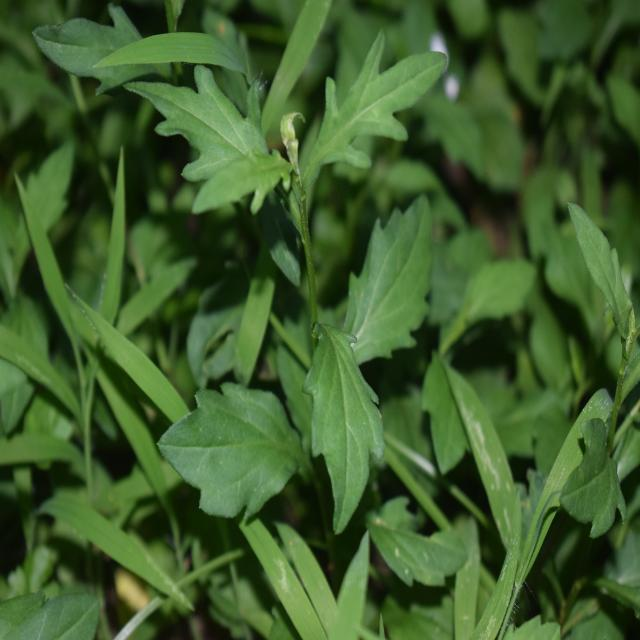Indian aster: (158, 76, 445, 491)
